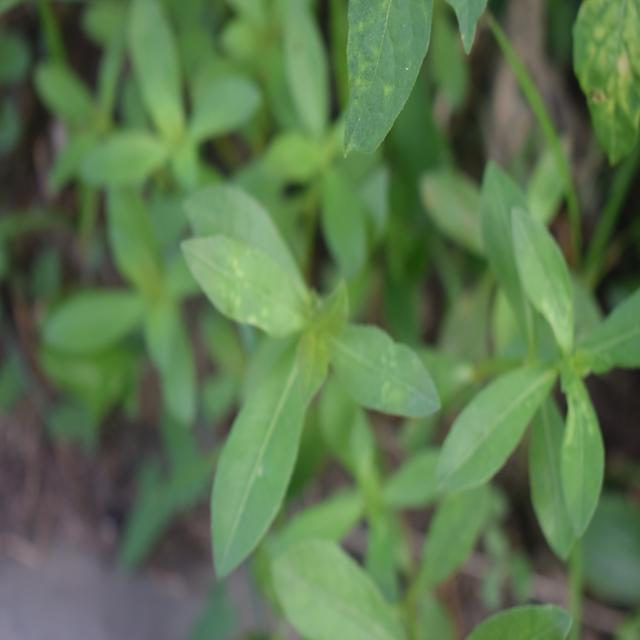Alligatorweed: (182, 177, 414, 566), (442, 181, 640, 589)
